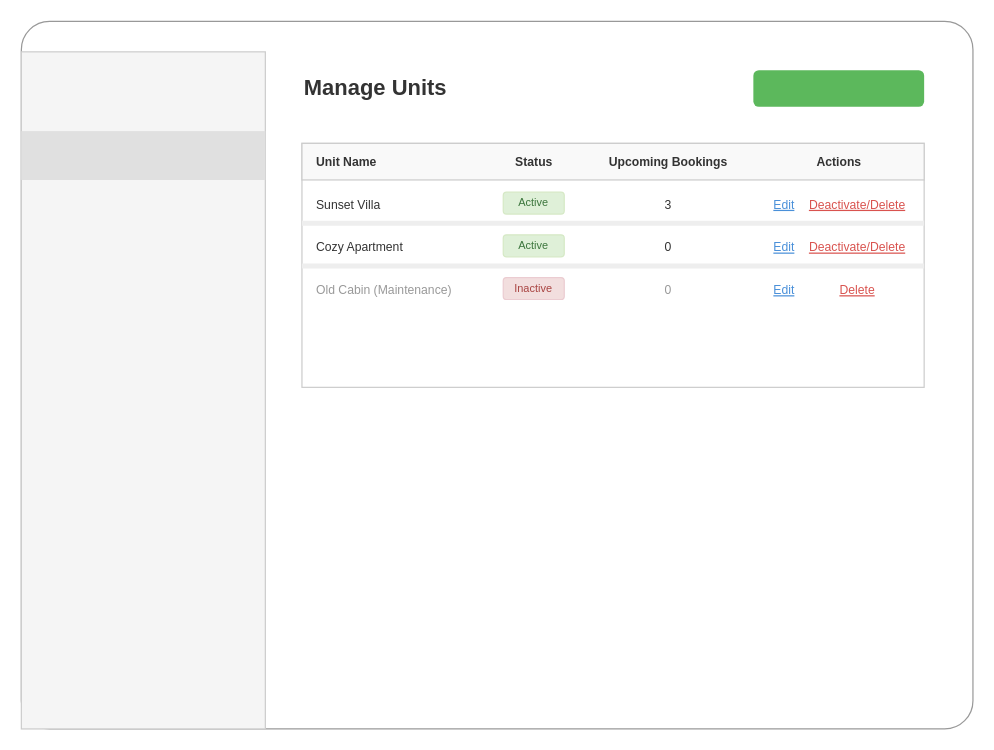
Image size: 994x750. Some labels were removed from this diagram. Here are the shapes that lost their labels. From the top down, the centre of each, then its label:
At (838,88): "+ Create New Unit".
At (143,155): "Homestay Units".
